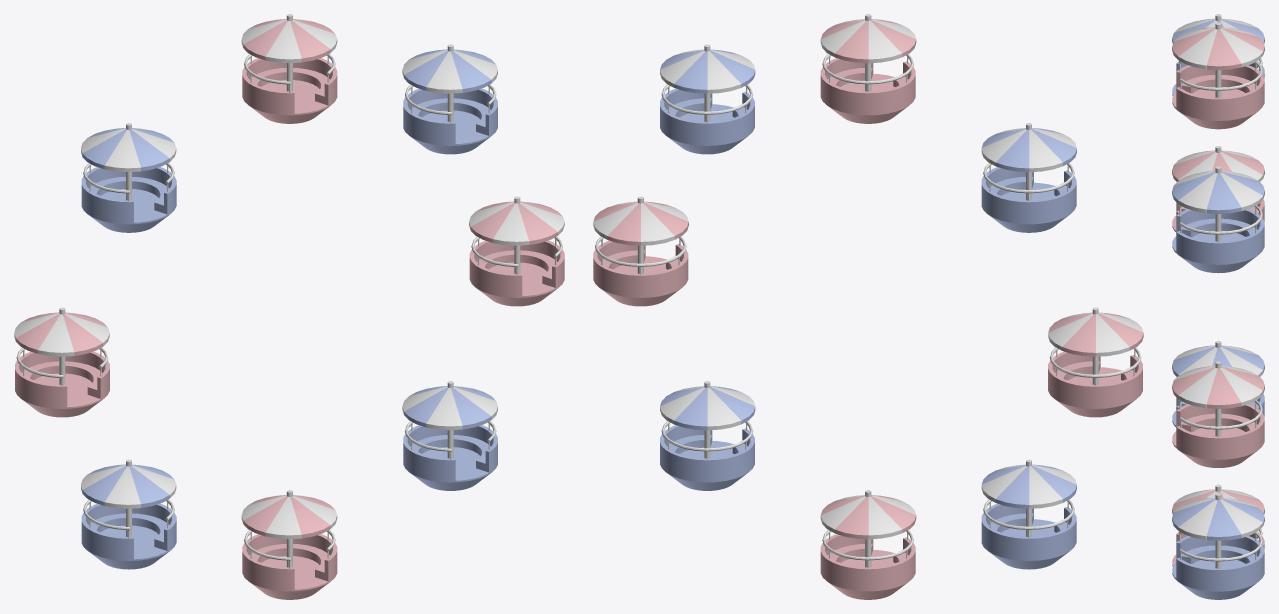
Rendered from FerrisSmooth.glb.
3 renders of one model, left to right at view 1: azimuth 30°, elevation 25°; view 2: azimuth 150°, elevation 25°; view 3: azimuth 270°, elevation 25°, orthographic. The views are drawn at different scales.
Parts seen in each view (by area): view 1: F05, F01, F03, F06, F08, F07, F04, F02; view 2: F03, F05, F01, F08, F06, F04, F07, F02; view 3: F04, F03, F05, F02, F07, F08, F01, F06.
Boxes of the visible parts, x1,y1,x2,y2 form: F05: (241,14,337,123); F01: (241,490,337,599); F03: (469,196,564,306); F06: (81,123,176,232); F08: (81,459,176,569); F07: (14,307,109,417); F04: (402,44,497,154); F02: (402,381,497,490); F03: (593,196,688,306); F05: (820,14,916,123); F01: (820,490,916,599); F08: (981,459,1076,569); F06: (981,123,1076,232); F04: (660,44,755,154); F07: (1048,307,1143,417); F02: (660,381,755,490); F04: (1172,166,1264,273); F03: (1172,361,1264,467); F05: (1172,22,1264,129); F02: (1172,493,1264,599); F07: (1172,146,1264,232); F08: (1172,341,1264,427); F01: (1172,484,1264,566); F06: (1172,14,1264,95).
Bounding box in the file's own units: 2.6 × 2.65 × 0.4.
